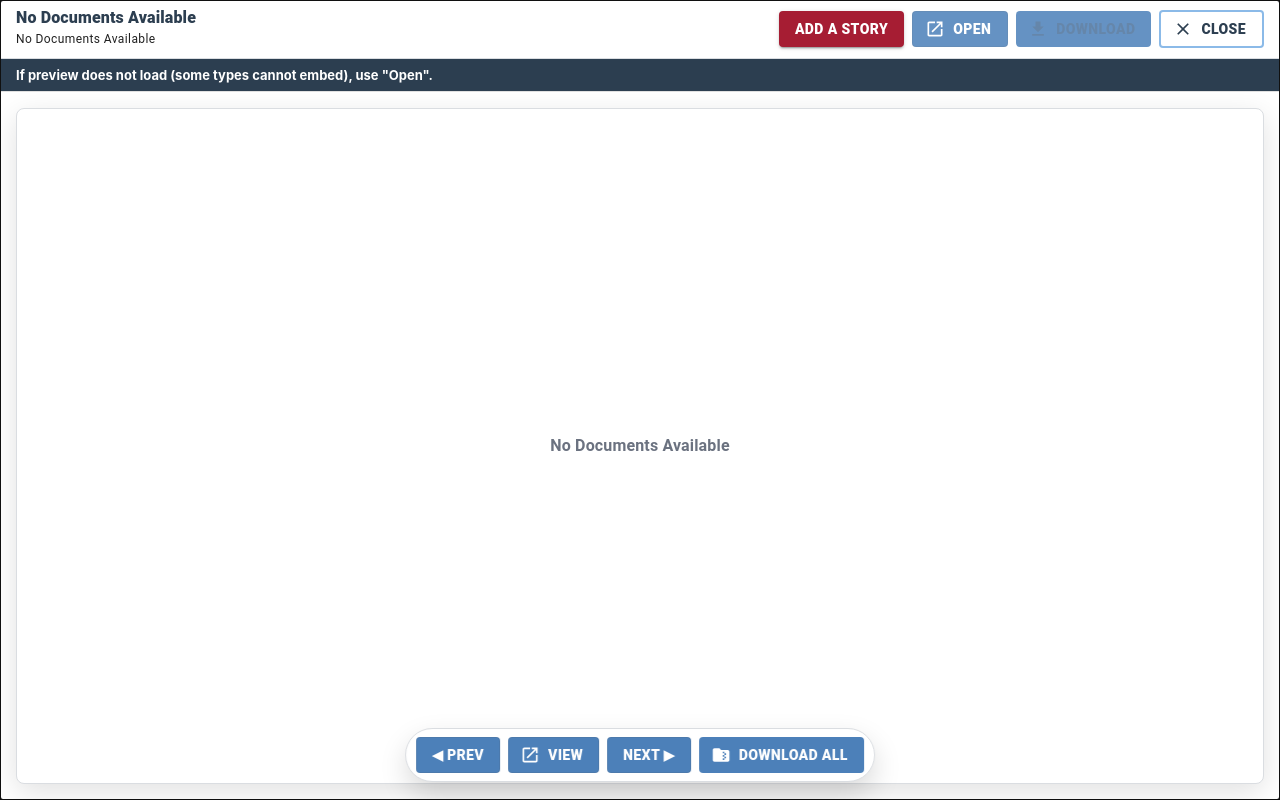
Test case: DocumentViewerModal (lightweight unit tests) › opens the achiever story submission form inside the existing viewer
Click the button with test id "add-achiever-story" at (842, 29), box left=779, top=11, right=904, bottom=47
(page scrolled)
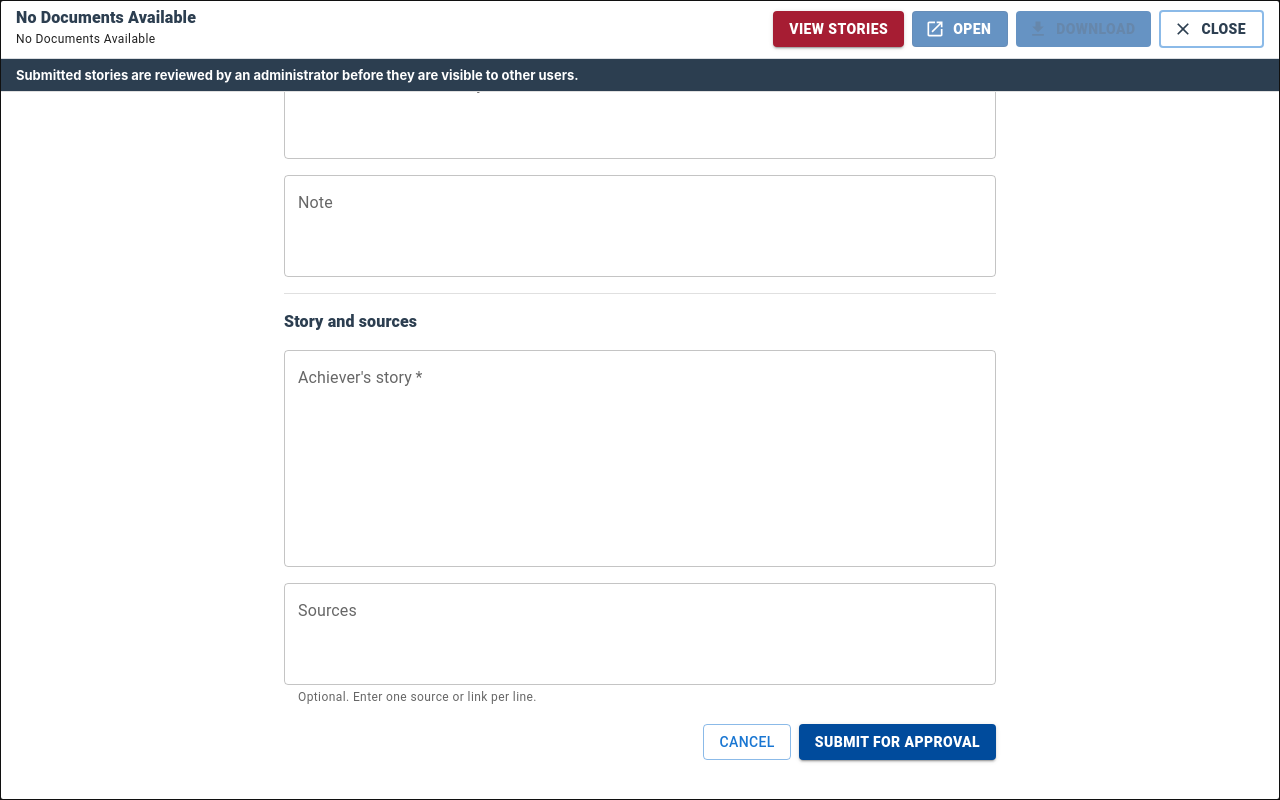
Expected: the button "Submit for approval" is shown, left=799, top=724, right=996, bottom=760
